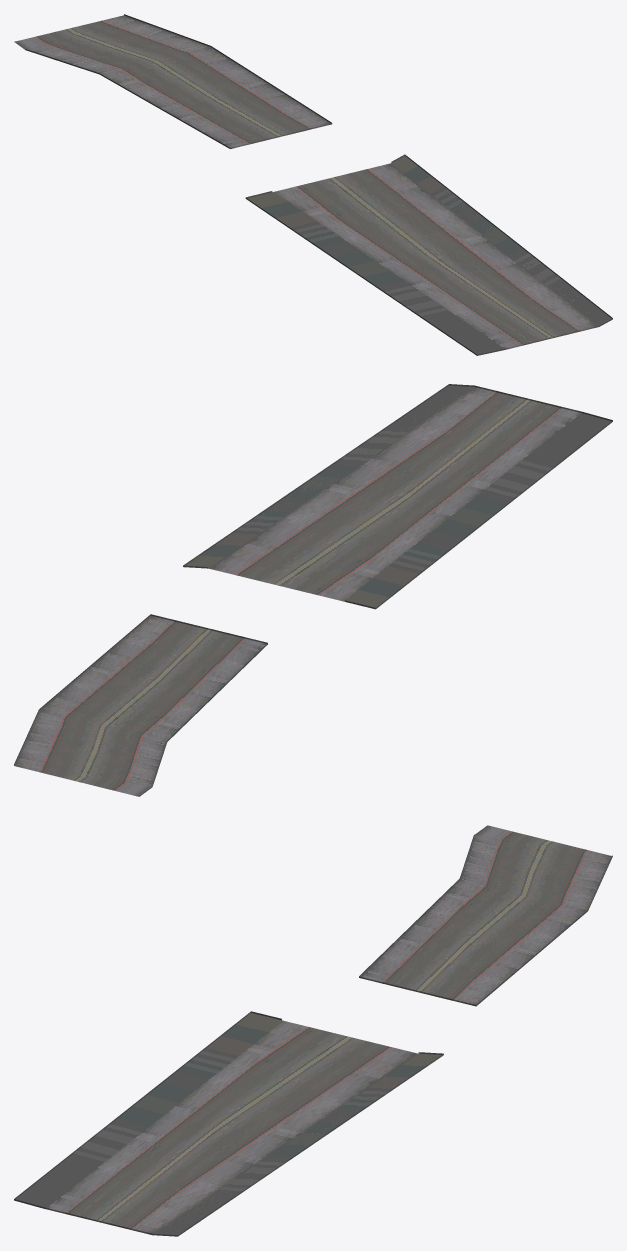
Rendered from lodroadssfse45.obj.
3 renders of one model, top to bottom at view 1: azimuth 30°, elevation 25°; view 2: azimuth 150°, elevation 25°; view 3: azimuth 330°, elevation 25°, orthographic. The views are drawn at different scales.
Parts seen in each view (by area): view 1: LODroadsSFSE45; view 2: LODroadsSFSE45; view 3: LODroadsSFSE45.
Part boxes in pixels (bbox=[...]): LODroadsSFSE45: bbox=[14, 14, 612, 355]; LODroadsSFSE45: bbox=[14, 384, 612, 796]; LODroadsSFSE45: bbox=[14, 825, 612, 1236].
Size of the model in its own units: 37.34 by 0.2709 by 161.
1 material, 1 textured.
